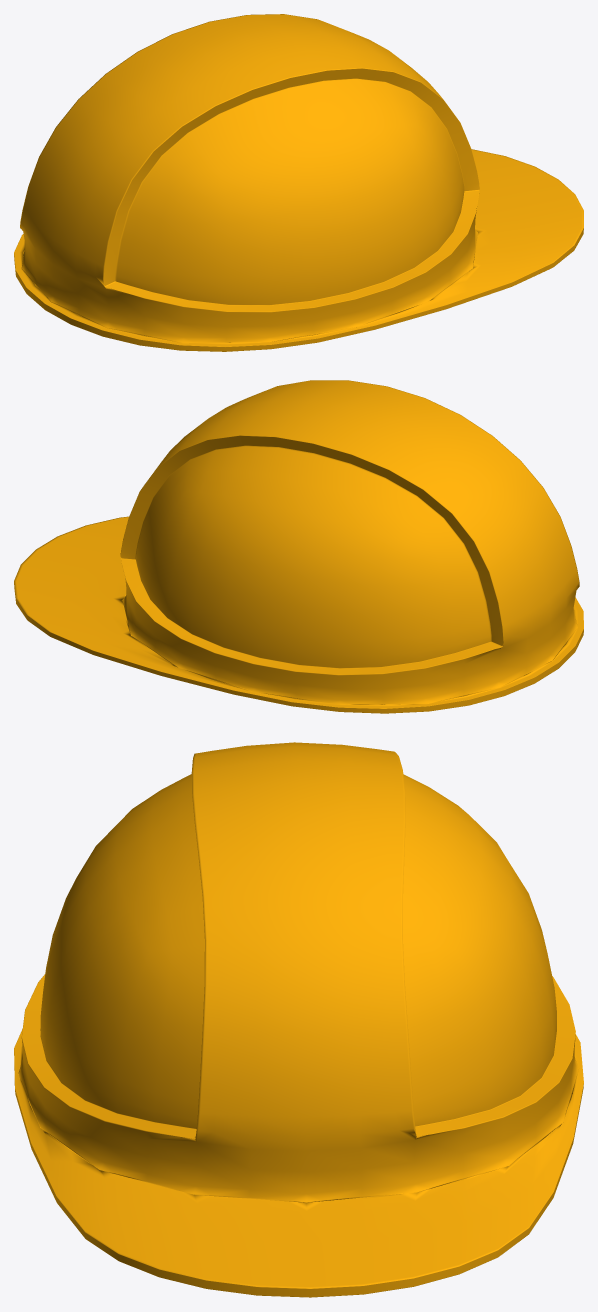
Rendered from hardhat001.fbx.
The picture shows the model from 3 angles, top to bottom: view 1: azimuth 30°, elevation 25°; view 2: azimuth 150°, elevation 25°; view 3: azimuth 270°, elevation 25°; orthographic projection. The views are drawn at different scales.
Visible parts, largest first — view 1: Cube.003; view 2: Cube.003; view 3: Cube.003.
Part boxes in pixels (bbox=[...]): Cube.003: bbox=[14, 14, 583, 351]; Cube.003: bbox=[14, 380, 583, 713]; Cube.003: bbox=[14, 742, 583, 1297].
Bounding box in the file's own units: 443 × 181 × 307.
Materials: 1 (1 with a texture image).
